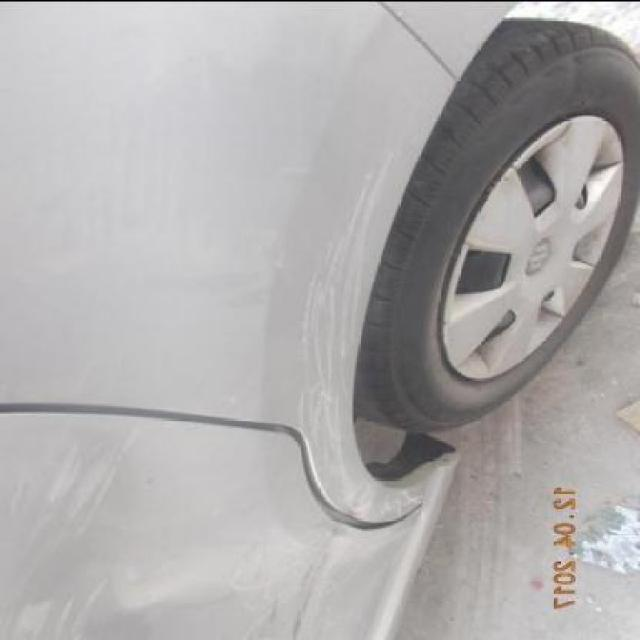damage: (294, 133, 397, 463), (260, 524, 346, 640), (319, 470, 424, 522)
